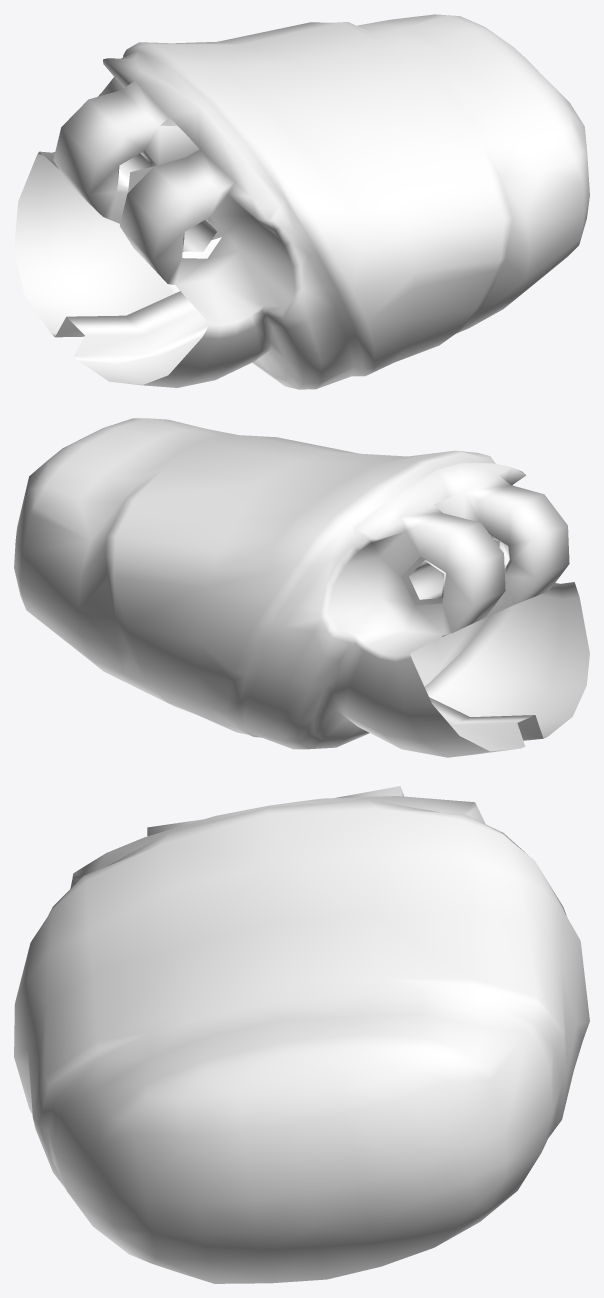
The model's file is RFinger23.dae.
3 views of the same model, one above another, from view 1: azimuth 30°, elevation 25°; view 2: azimuth 150°, elevation 25°; view 3: azimuth 270°, elevation 25° (orthographic). The views are drawn at different scales.
Visible parts, largest first — view 1: RFinger23; view 2: RFinger23; view 3: RFinger23.
Boxes of the visible parts, x1,y1,x2,y2 form: RFinger23: [14, 14, 589, 389]; RFinger23: [14, 418, 589, 757]; RFinger23: [14, 786, 589, 1283].
Bounding box in the file's own units: 0.204 × 0.1614 × 0.1121.
Materials: 1 (1 with a texture image).
